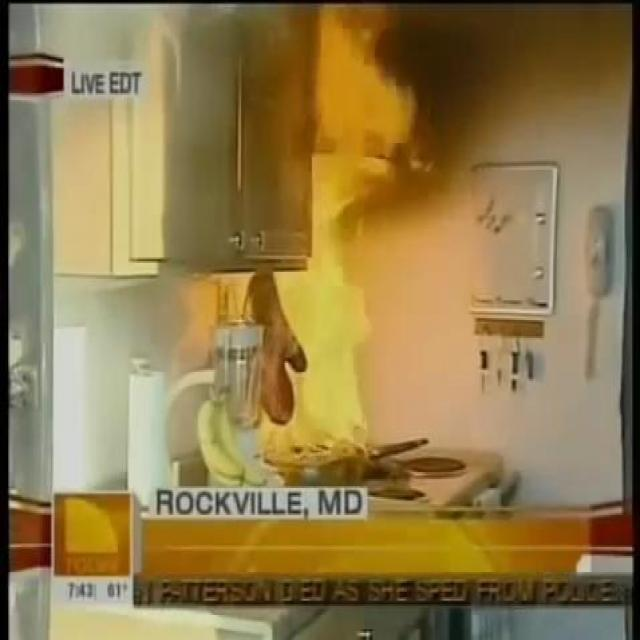fire: (253, 29, 459, 447)
